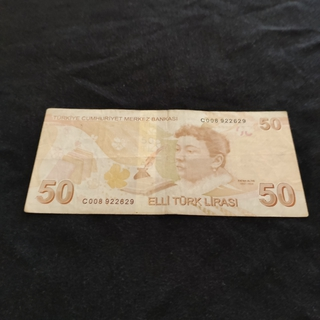50TLBack: (23, 106, 309, 218)
